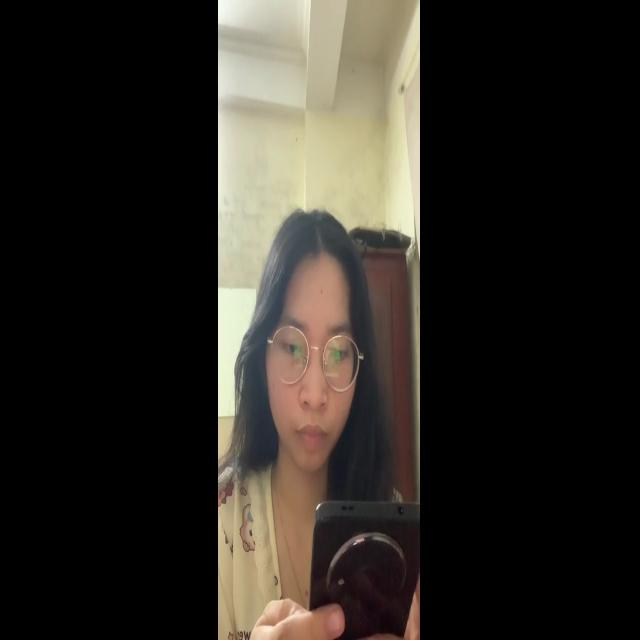phone: (308, 474, 423, 640)
student: (255, 201, 370, 489)
